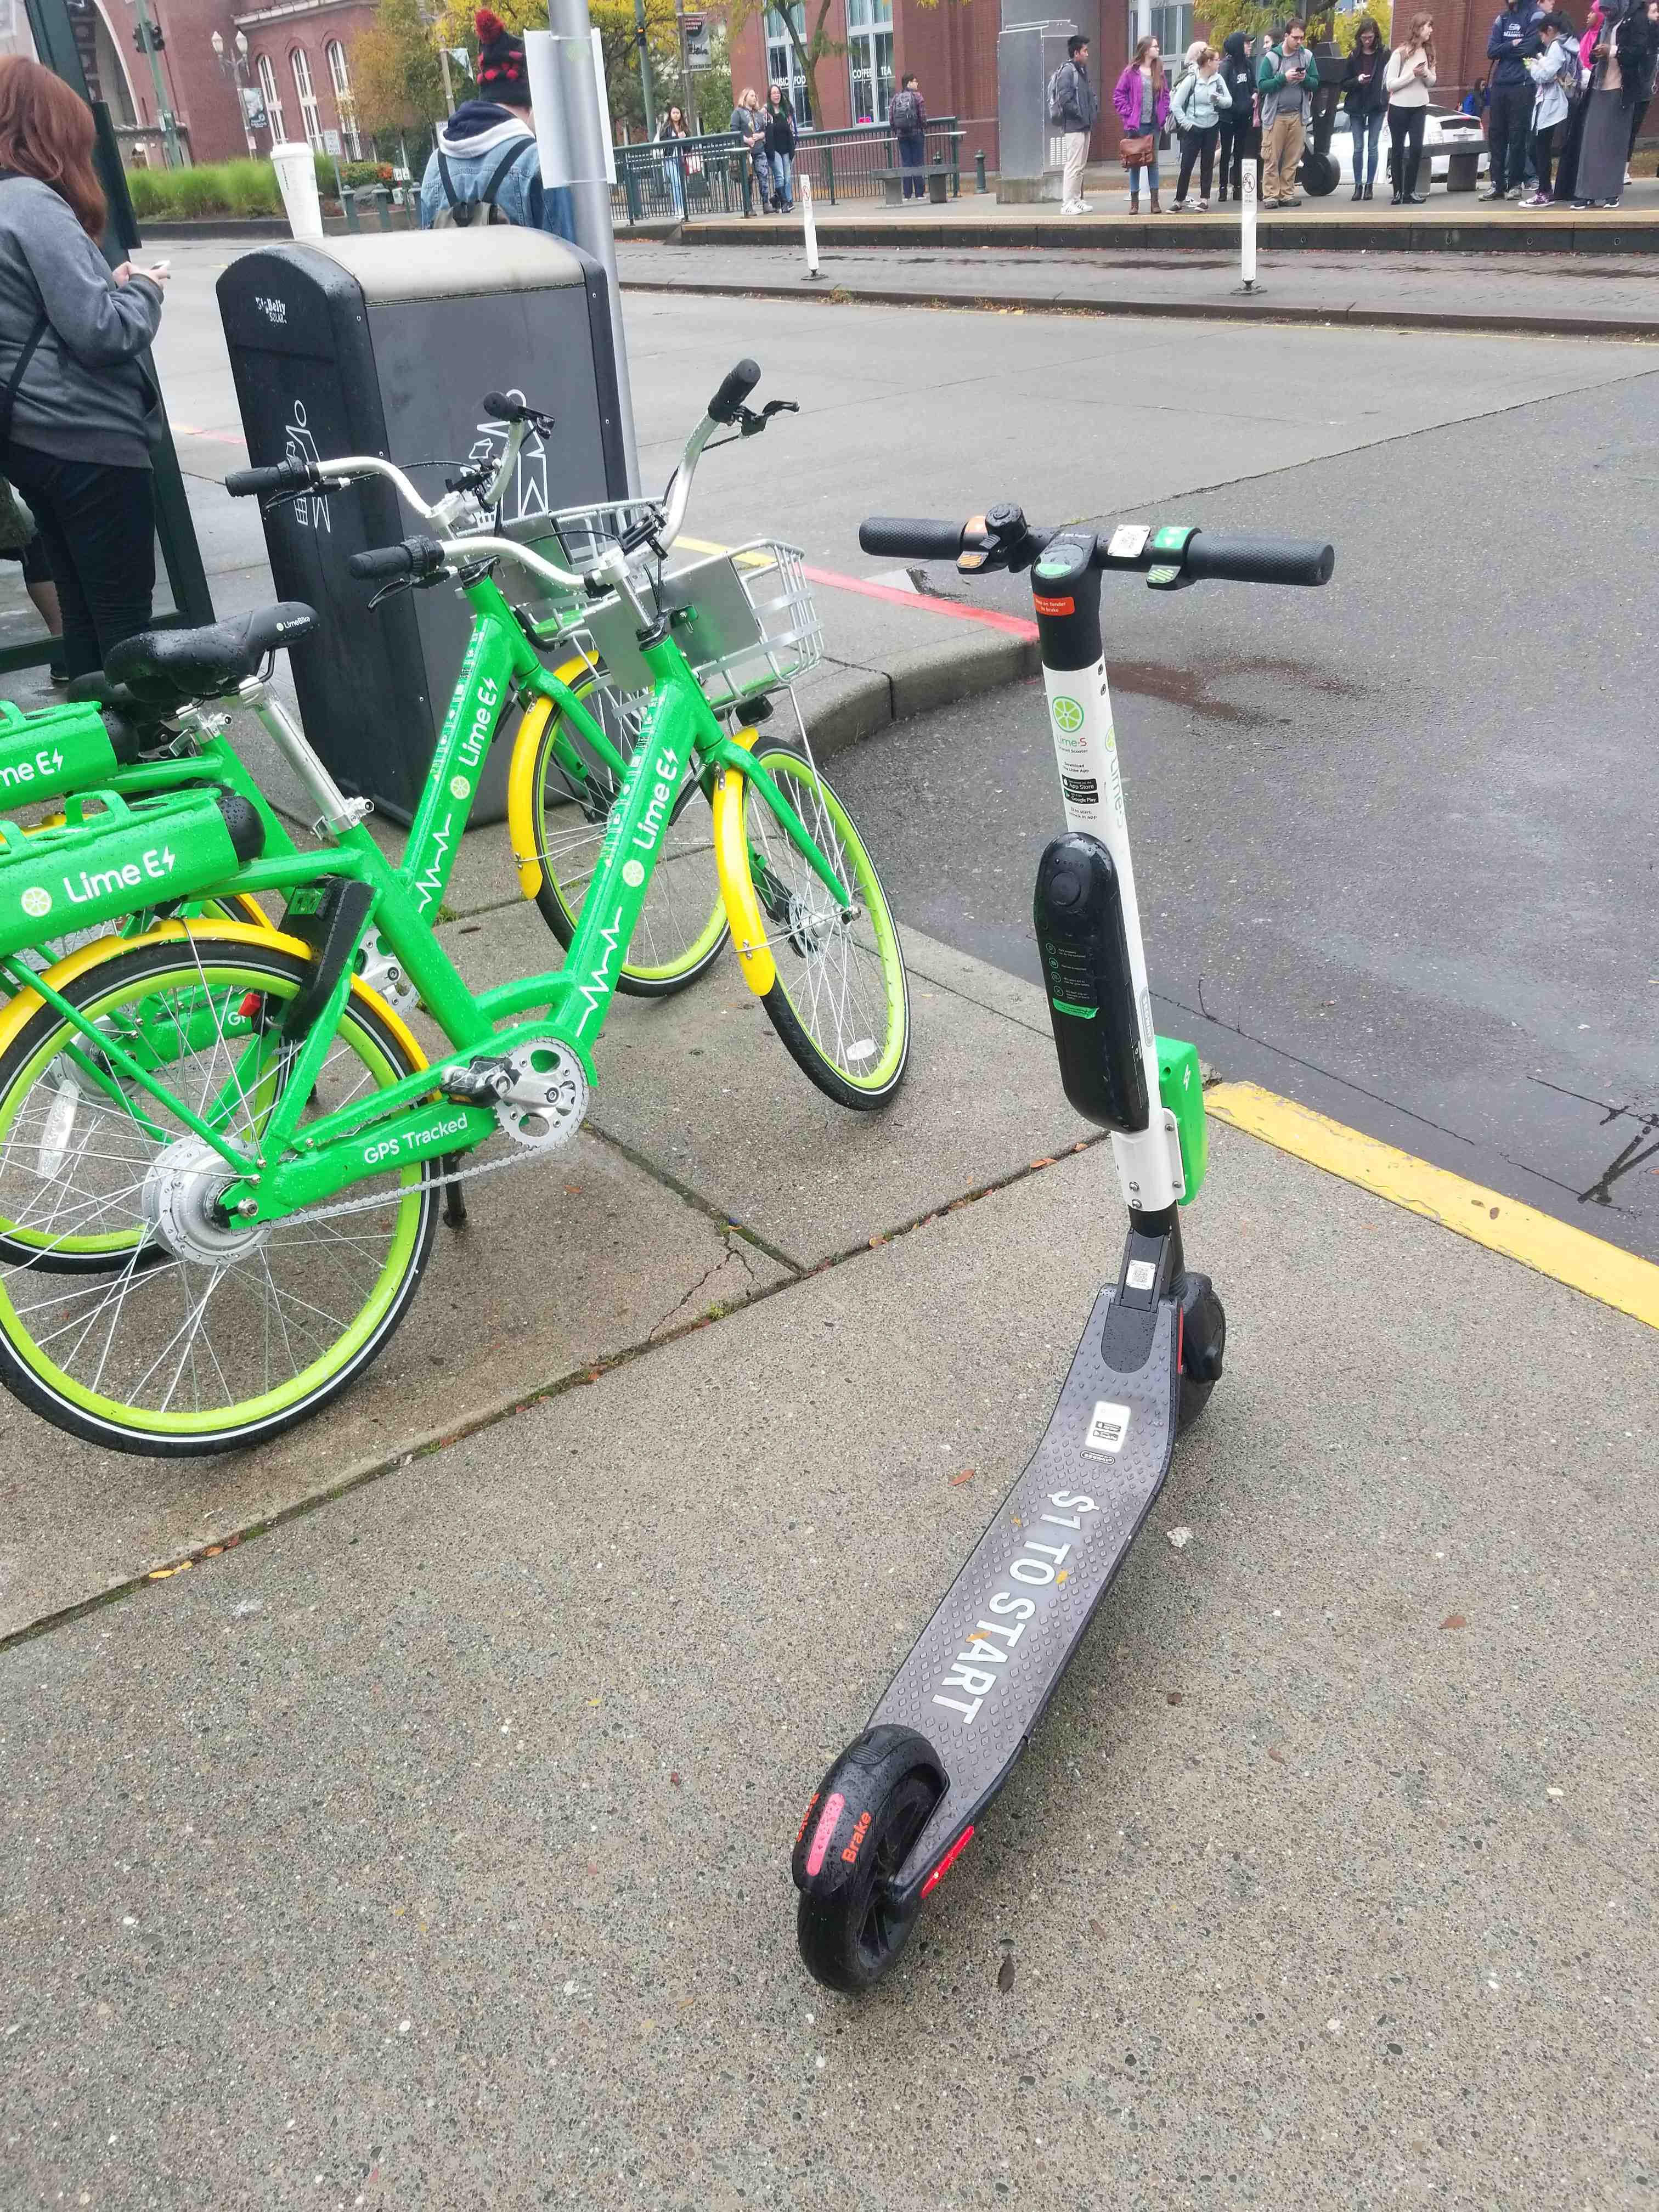scooter: (734, 496, 1398, 2020)
